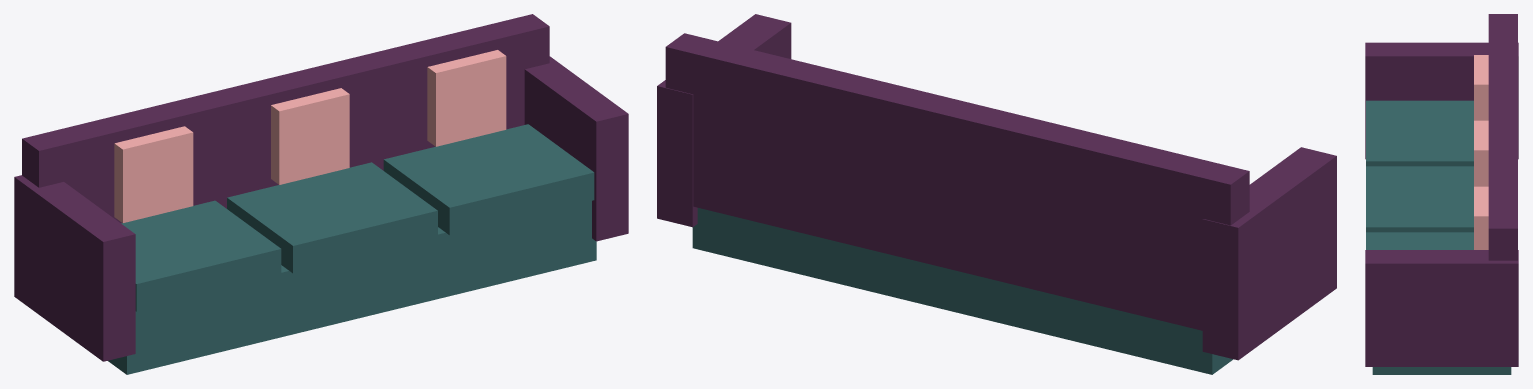
Rendered from couch-wide.obj.
3 renders of one model, left to right at view 1: azimuth 30°, elevation 25°; view 2: azimuth 150°, elevation 25°; view 3: azimuth 270°, elevation 25°, orthographic. The views are drawn at different scales.
Visible parts, largest first — view 1: cozy-back, soft-sofa-base, left-rounded-arm, seat-cushion-3, seat-cushion-2, seat-cushion-1, right-rounded-arm, pillow-1, pillow-3, pillow-2; view 2: cozy-back, soft-sofa-base, left-rounded-arm, right-rounded-arm; view 3: right-rounded-arm, cozy-back, seat-cushion-1, seat-cushion-2, left-rounded-arm, seat-cushion-3, soft-sofa-base, pillow-2, pillow-1, pillow-3.
Boxes of the visible parts, left/top/right/bottom form: cozy-back: left=22, top=14, right=549, bottom=223; soft-sofa-base: left=108, top=201, right=596, bottom=374; left-rounded-arm: left=14, top=175, right=135, bottom=361; seat-cushion-3: left=383, top=124, right=594, bottom=235; seat-cushion-2: left=227, top=162, right=437, bottom=273; seat-cushion-1: left=121, top=200, right=281, bottom=311; right-rounded-arm: left=524, top=56, right=628, bottom=241; pillow-1: left=114, top=126, right=193, bottom=222; pillow-3: left=427, top=50, right=506, bottom=146; pillow-2: left=271, top=88, right=349, bottom=184; cozy-back: left=665, top=33, right=1249, bottom=330; soft-sofa-base: left=692, top=208, right=1232, bottom=374; left-rounded-arm: left=1202, top=147, right=1336, bottom=360; right-rounded-arm: left=657, top=14, right=791, bottom=227; right-rounded-arm: left=1365, top=250, right=1518, bottom=366; cozy-back: left=1488, top=14, right=1517, bottom=260; seat-cushion-1: left=1366, top=100, right=1473, bottom=166; seat-cushion-2: left=1366, top=166, right=1473, bottom=232; left-rounded-arm: left=1365, top=42, right=1518, bottom=159; seat-cushion-3: left=1366, top=232, right=1473, bottom=249; soft-sofa-base: left=1372, top=367, right=1511, bottom=374; pillow-2: left=1474, top=120, right=1488, bottom=186; pillow-1: left=1474, top=55, right=1488, bottom=120; pillow-3: left=1474, top=186, right=1488, bottom=249.
Bounding box in the file's own units: 3.58 × 1.17 × 1.05.
